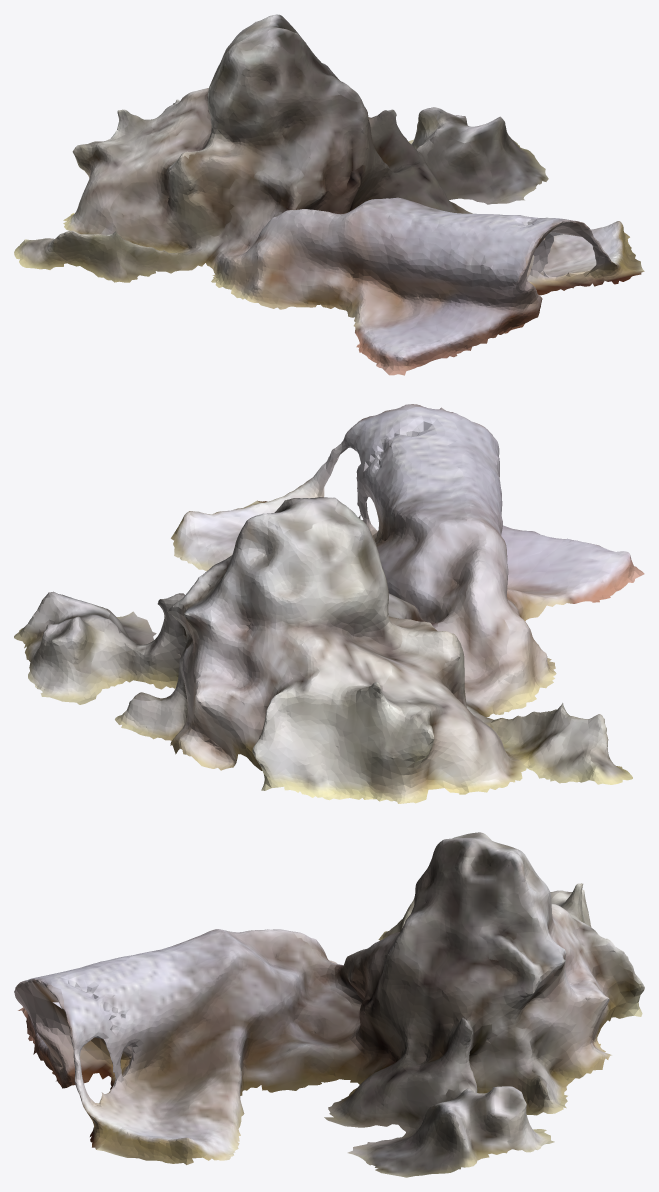
Rendered from Coral.glb.
The picture shows the model from 3 angles, top to bottom: view 1: azimuth 30°, elevation 25°; view 2: azimuth 150°, elevation 25°; view 3: azimuth 270°, elevation 25°; orthographic projection. The views are drawn at different scales.
Visible parts, largest first — view 1: mesh; view 2: mesh; view 3: mesh.
Boxes of the visible parts, x1,y1,x2,y2 form: mesh: (14,14,644,375); mesh: (14,404,644,803); mesh: (14,832,644,1177).
Bounding box in the file's own units: 0.351 × 0.1257 × 0.3343.
Materials: 1 (1 with a texture image).
